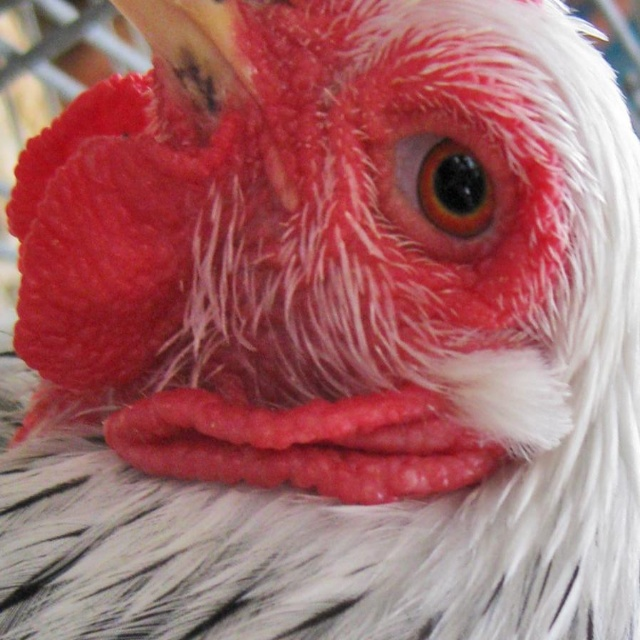Chicken: (65, 0, 640, 574)
